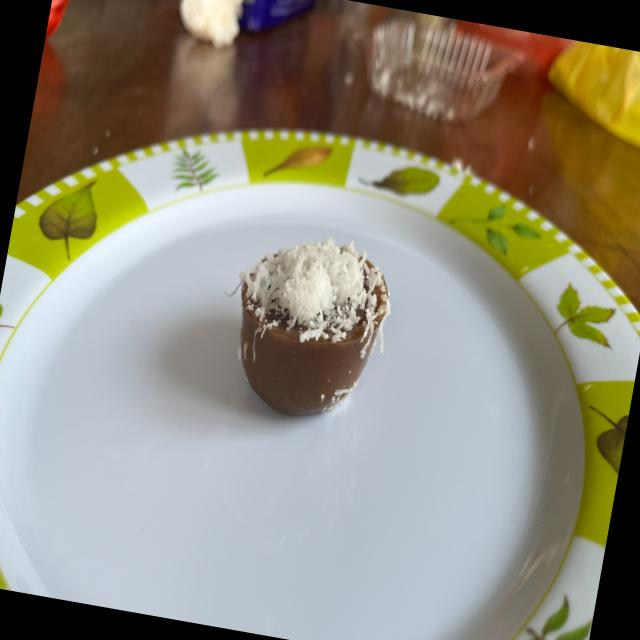Kuih lompang: (238, 238, 390, 416)
